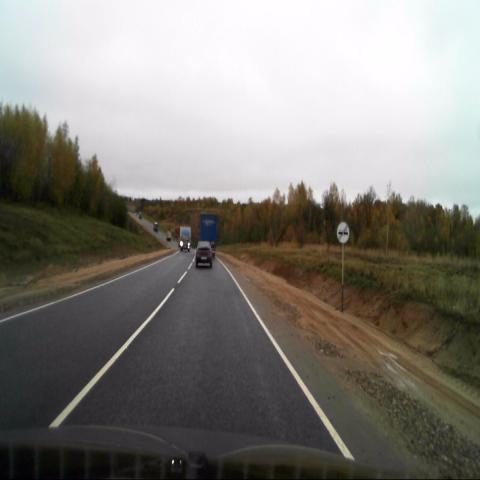3_21: (337, 221, 350, 244)
